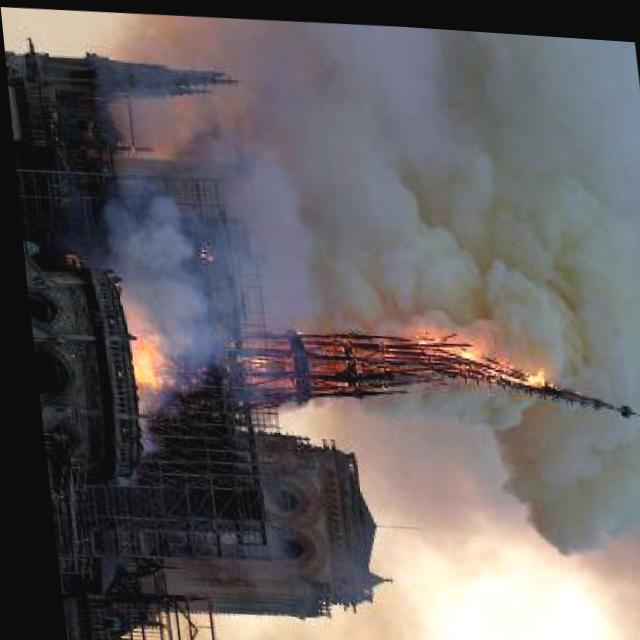helmet: (228, 304, 546, 393), (110, 318, 168, 391)
no_helmet: (92, 5, 640, 397), (360, 387, 640, 556)
